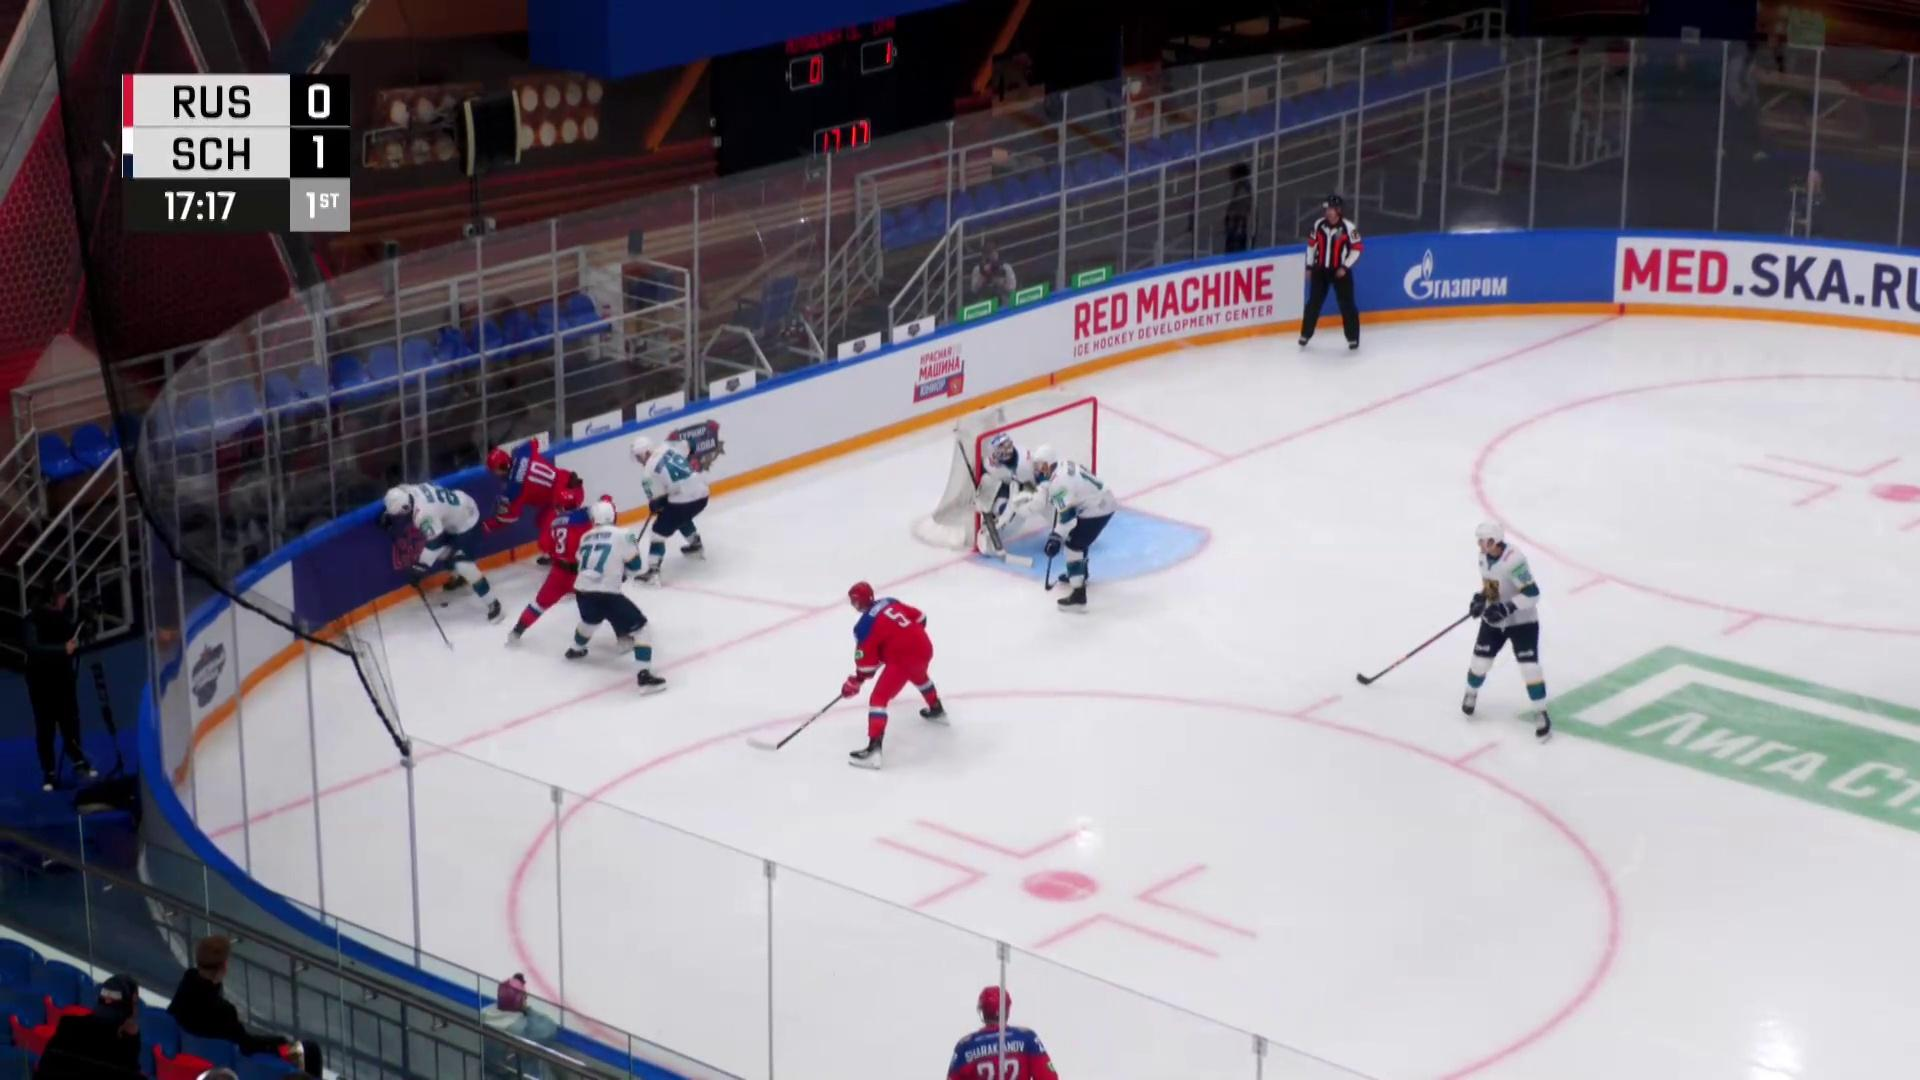ball: (439, 603, 448, 608)
